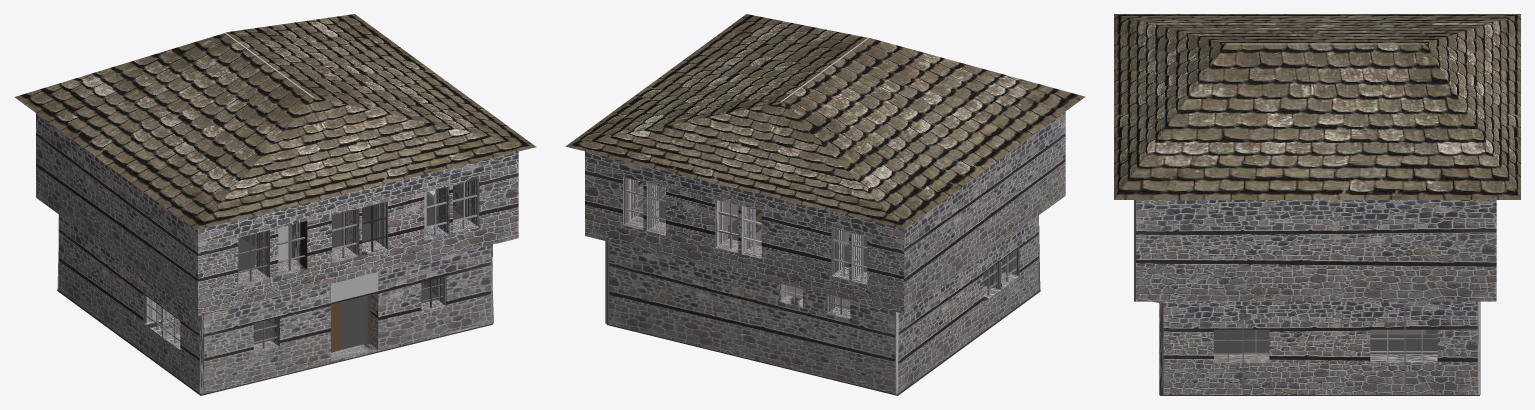
Rendered from EvEmineGulCapku.fbx.
3 views of the same model, side by side, from view 1: azimuth 30°, elevation 25°; view 2: azimuth 150°, elevation 25°; view 3: azimuth 270°, elevation 25° (orthographic). The views are drawn at different scales.
Parts seen in each view (by area): view 1: catı, ikinciKat, girisKat, pasted__pCube1, pasted__pasted__pCube1, tabela, pasted__pasted__pasted__pasted__pCube1; view 2: catı, ikinciKat, girisKat, pasted__pCube1, pasted__pasted__pCube1; view 3: catı, ikinciKat, girisKat, pasted__pCube1.
Part boxes in pixels (x1=…): catı: x1=14, y1=14, x2=536, y2=229; ikinciKat: x1=36, y1=113, x2=518, y2=316; girisKat: x1=57, y1=214, x2=493, y2=394; pasted__pCube1: x1=57, y1=285, x2=492, y2=395; pasted__pasted__pCube1: x1=238, y1=195, x2=462, y2=271; tabela: x1=330, y1=272, x2=378, y2=302; pasted__pasted__pasted__pasted__pCube1: x1=331, y1=302, x2=340, y2=352; catı: x1=565, y1=14, x2=1085, y2=229; ikinciKat: x1=585, y1=111, x2=1065, y2=313; girisKat: x1=605, y1=215, x2=1040, y2=394; pasted__pCube1: x1=606, y1=284, x2=1040, y2=395; pasted__pasted__pCube1: x1=638, y1=196, x2=867, y2=272; catı: x1=1114, y1=14, x2=1520, y2=199; ikinciKat: x1=1134, y1=200, x2=1496, y2=301; girisKat: x1=1153, y1=301, x2=1480, y2=394; pasted__pCube1: x1=1159, y1=329, x2=1479, y2=395.
Bounding box in the file's own units: 27.36 × 18.74 × 25.31.
